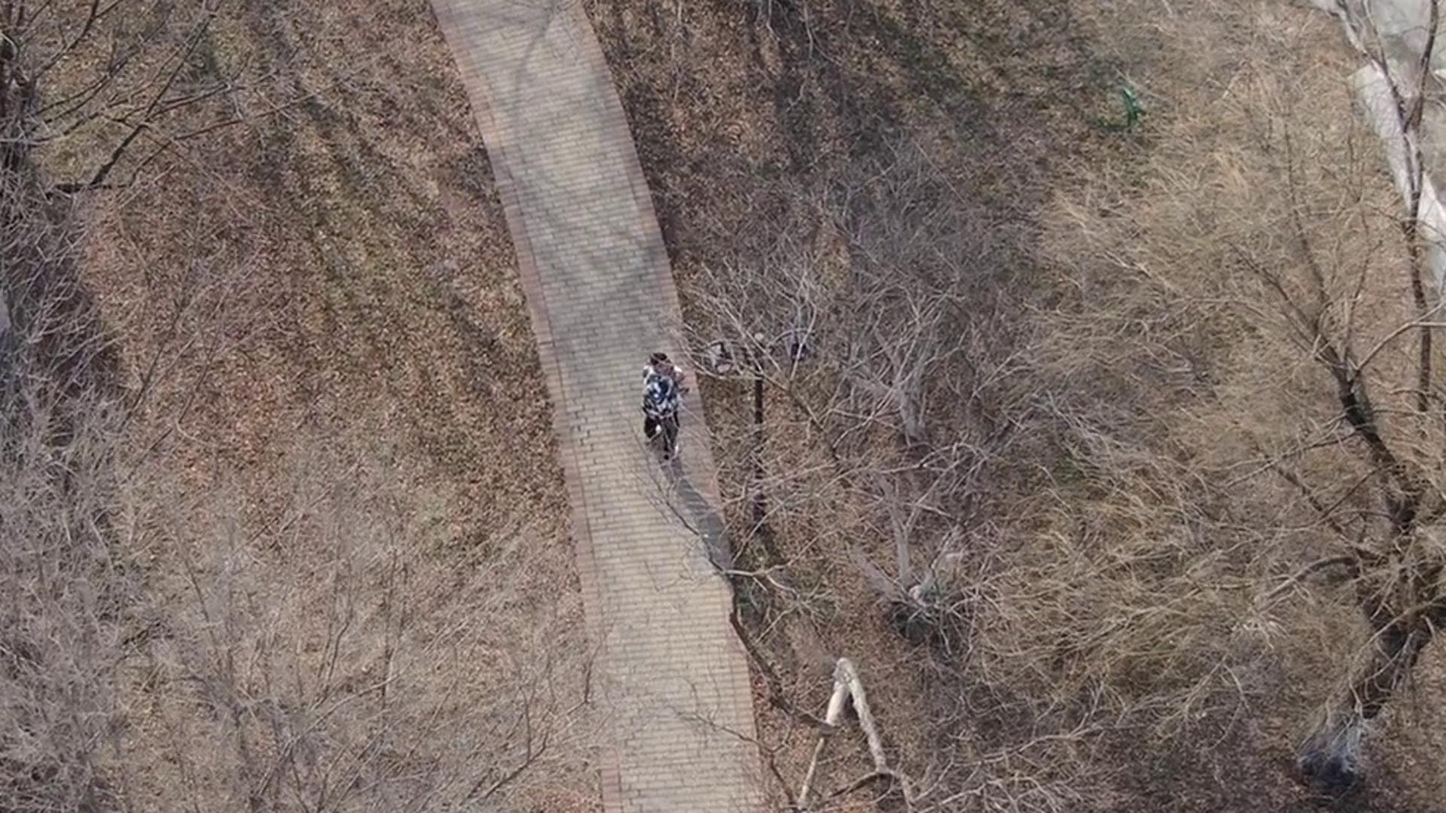human: (612, 324, 664, 457)
